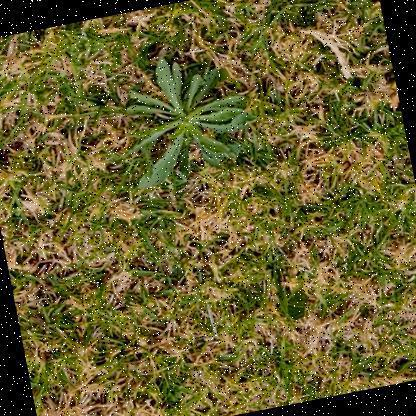Weeds: (113, 40, 268, 190)
